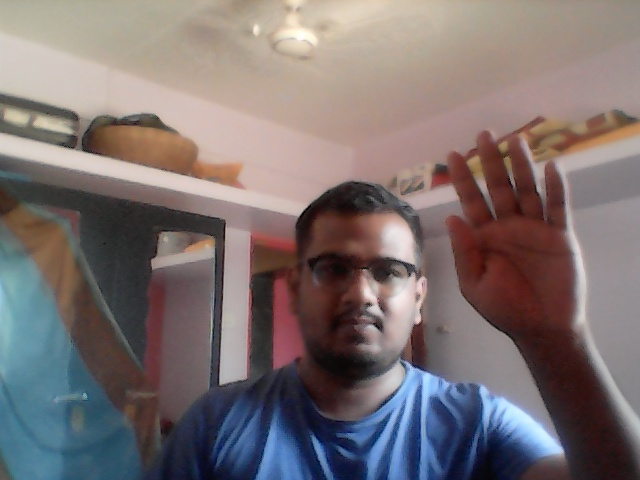Hello: (440, 126, 595, 352)
